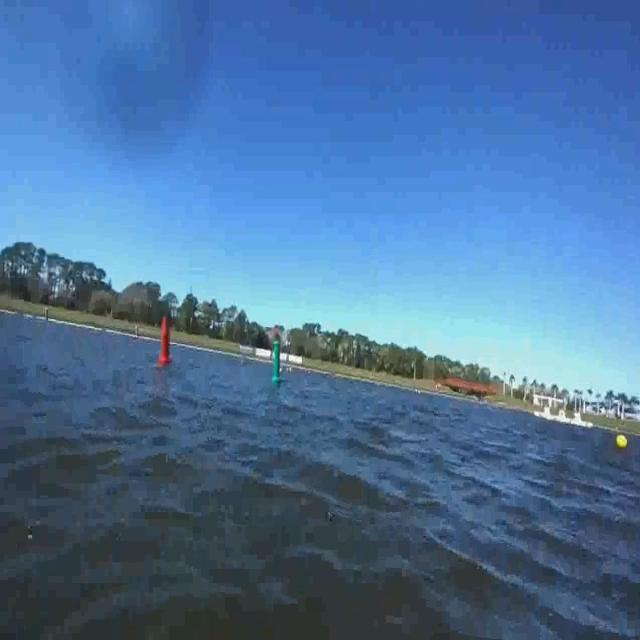green-column-buoy: (264, 324, 288, 386)
red-column-buoy: (157, 309, 174, 369)
